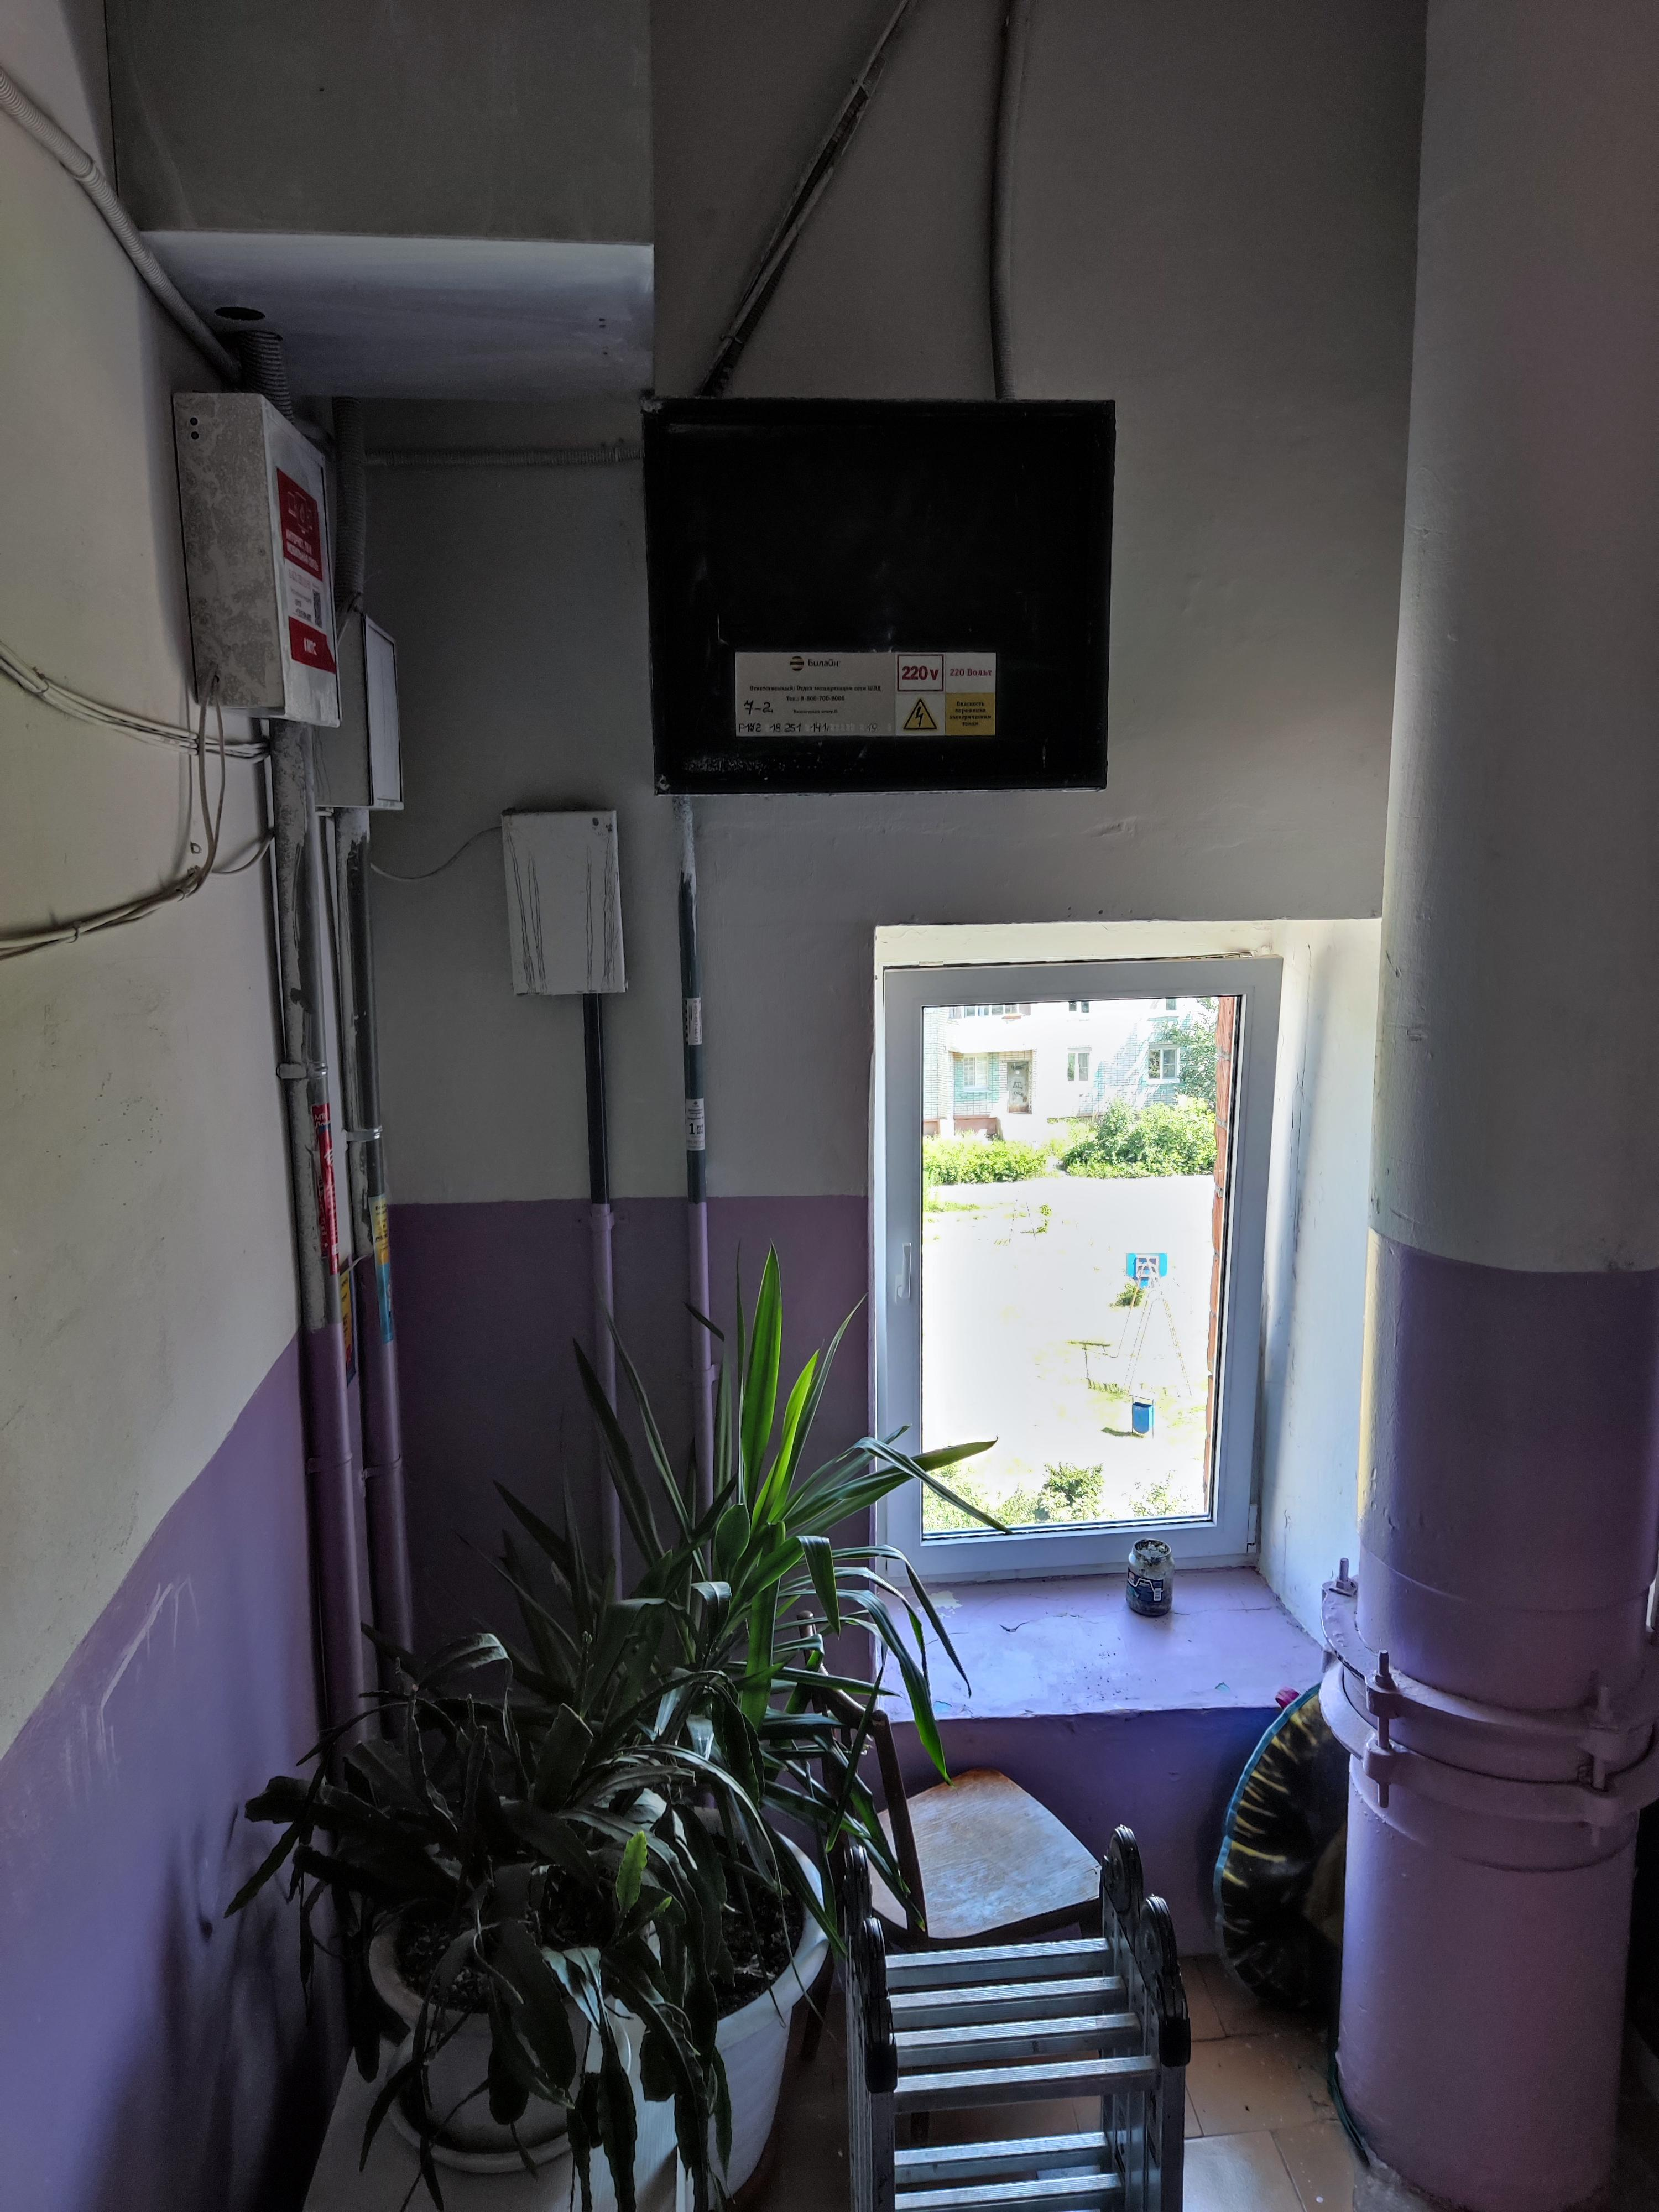shta-9m: (634, 395, 1114, 791)
